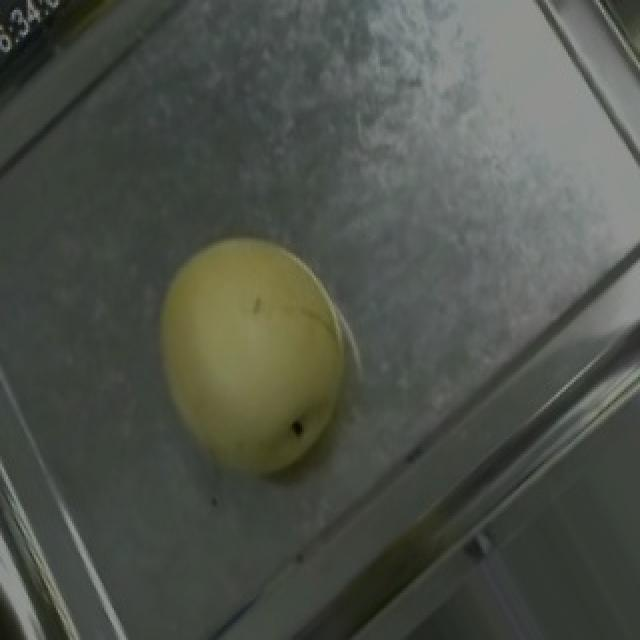Fruit: (110, 198, 404, 514)
